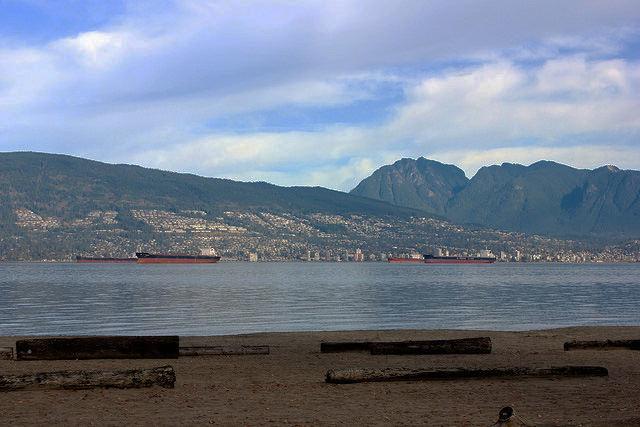bulk carrier: (423, 245, 498, 267), (136, 246, 223, 264), (76, 244, 133, 262), (387, 250, 424, 265)
